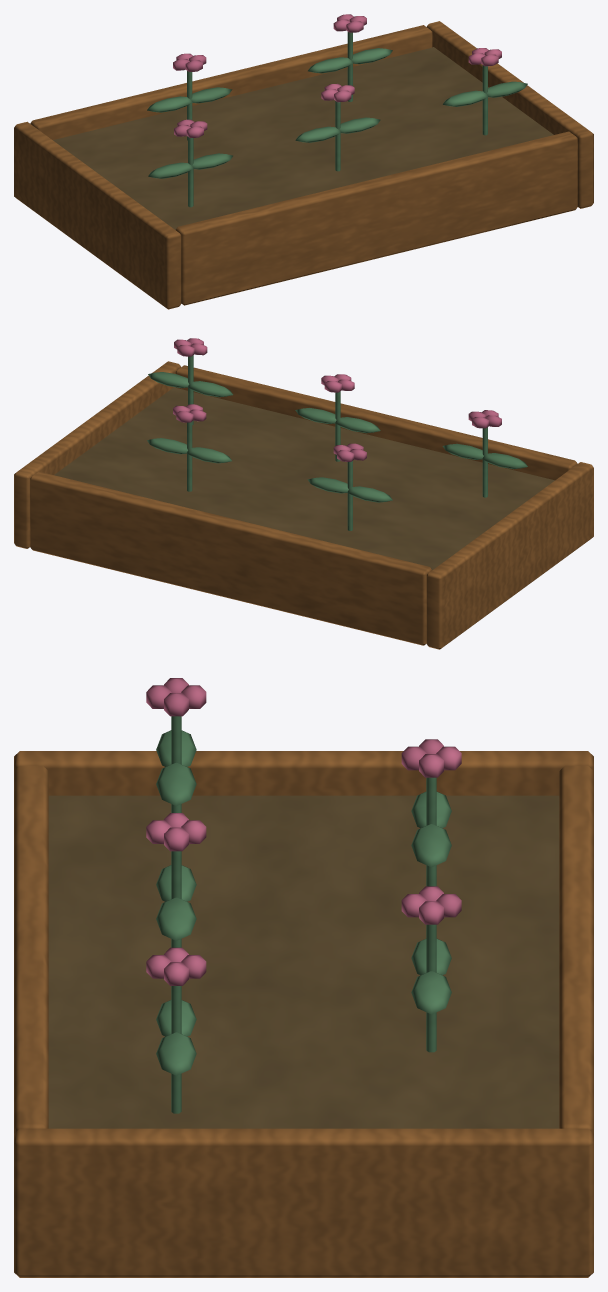
Rendered from Furn_FlowerBed.fbx.
3 renders of one model, top to bottom at view 1: azimuth 30°, elevation 25°; view 2: azimuth 150°, elevation 25°; view 3: azimuth 270°, elevation 25°, orthographic. The views are drawn at different scales.
Visible parts, largest first — view 1: Furn_FlowerBed_Mesh; view 2: Furn_FlowerBed_Mesh; view 3: Furn_FlowerBed_Mesh.
Part boxes in pixels (bbox=[...]): Furn_FlowerBed_Mesh: bbox=[14, 14, 593, 309]; Furn_FlowerBed_Mesh: bbox=[14, 338, 593, 649]; Furn_FlowerBed_Mesh: bbox=[14, 678, 593, 1277].
Bounding box in the file's own units: 1.6 × 0.5 × 1.
4 materials, 4 textured.
